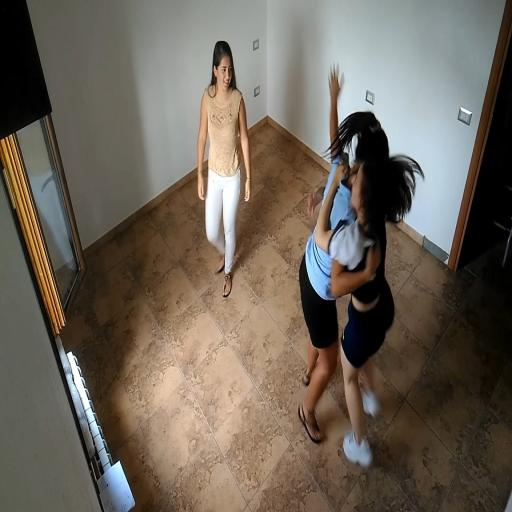nao-violencia: (291, 40, 427, 483)
